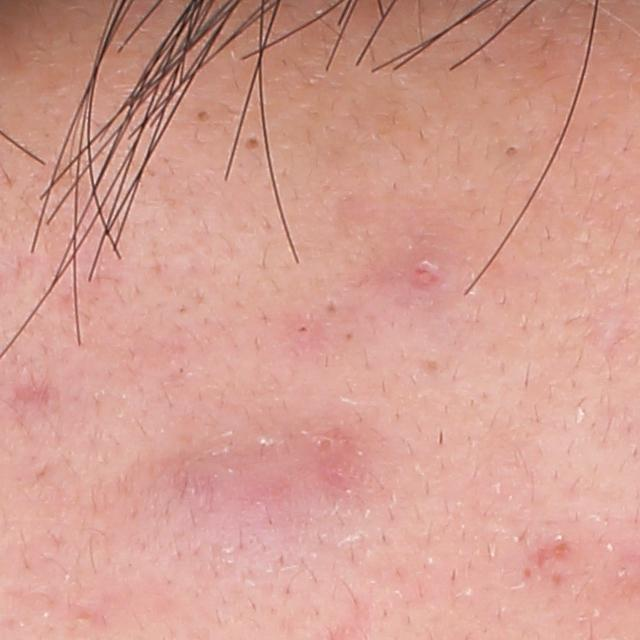comedo: (241, 131, 264, 155), (188, 105, 215, 124), (499, 141, 524, 159), (321, 296, 340, 317)
papule: (391, 249, 464, 301)
